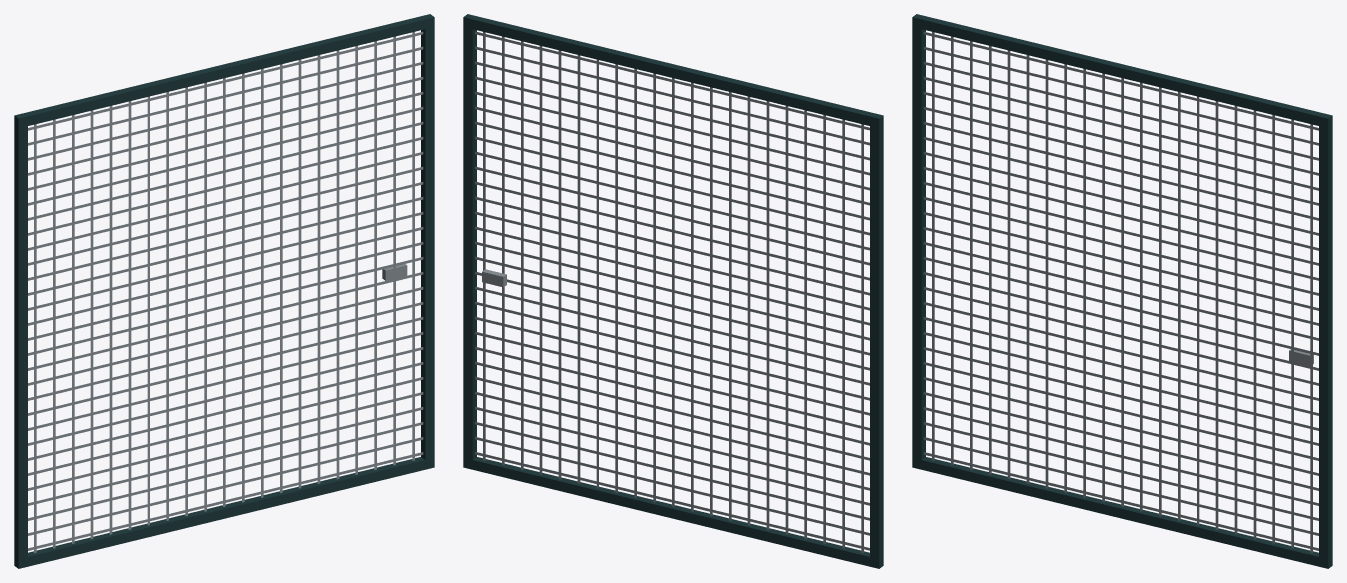
File: aviary_door_leaf.fbx
3 views of the same model, side by side, from view 1: azimuth 30°, elevation 25°; view 2: azimuth 150°, elevation 25°; view 3: azimuth 330°, elevation 25° (orthographic).
Parts seen in each view (by area): view 1: aviary_door_leaf; view 2: aviary_door_leaf; view 3: aviary_door_leaf.
Boxes of the visible parts, left/top/right/bottom form: aviary_door_leaf: left=14, top=14, right=434, bottom=568; aviary_door_leaf: left=463, top=14, right=883, bottom=568; aviary_door_leaf: left=912, top=14, right=1332, bottom=568.
Size of the model in its own units: 2.9 by 3 by 0.1.
